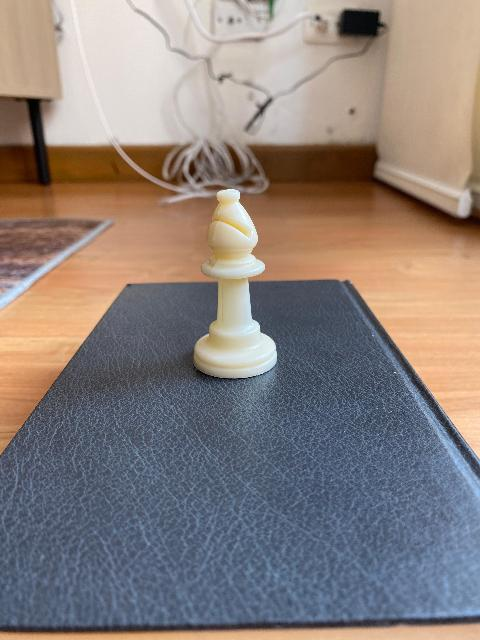white-bishop: (192, 188, 278, 380)
